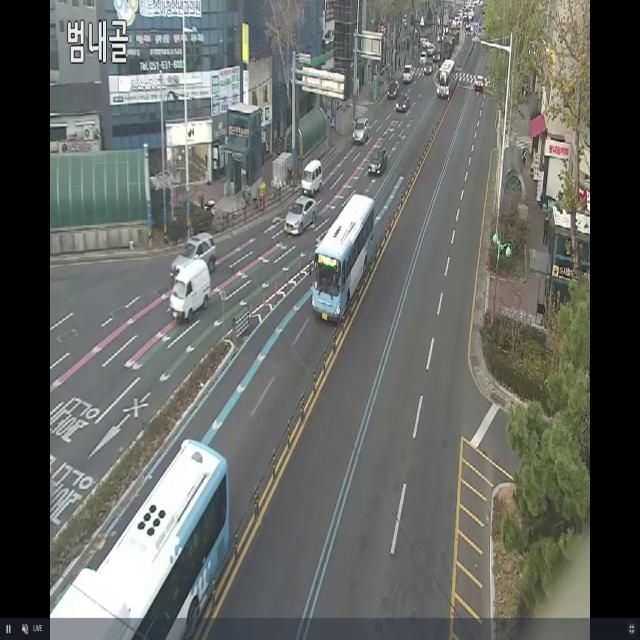car: (51, 419, 236, 640), (306, 180, 381, 333), (434, 51, 459, 102), (394, 84, 411, 118)
motorcycle: (163, 226, 221, 283), (168, 256, 212, 329), (282, 182, 320, 242), (294, 156, 328, 196), (364, 142, 389, 178), (349, 109, 371, 146)
